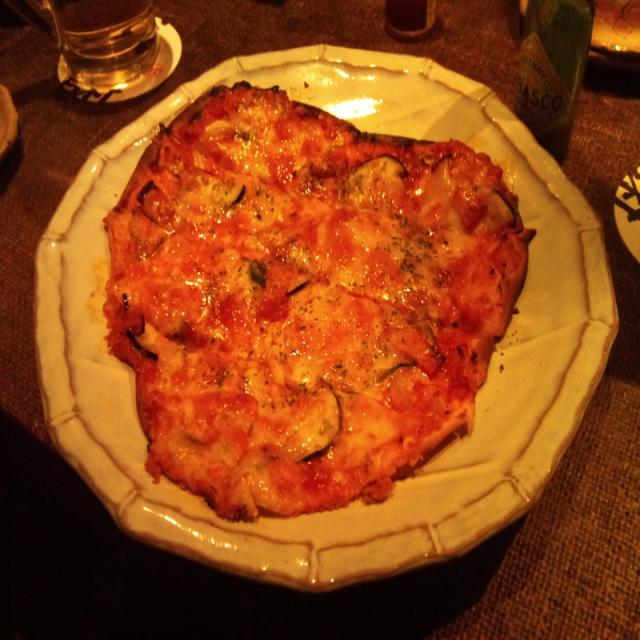汉堡快餐: (101, 108, 509, 533)
